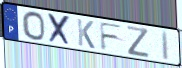F: (98, 21, 124, 52)
I: (161, 30, 170, 63)
K: (76, 18, 96, 51)
O: (21, 11, 47, 42)
X: (47, 12, 73, 47)
Z: (126, 25, 150, 60)
